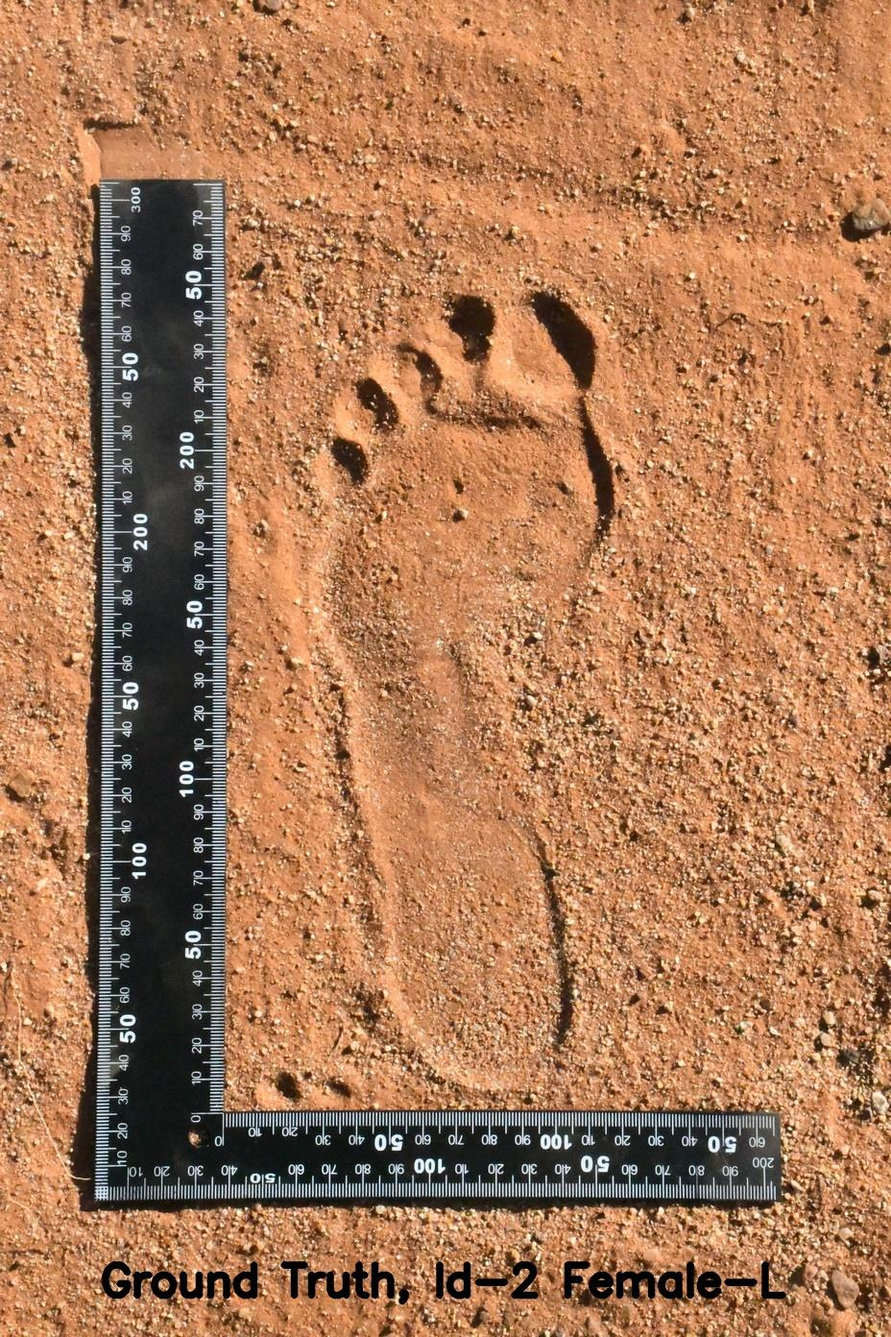human_footprint: (266, 267, 644, 1123)
